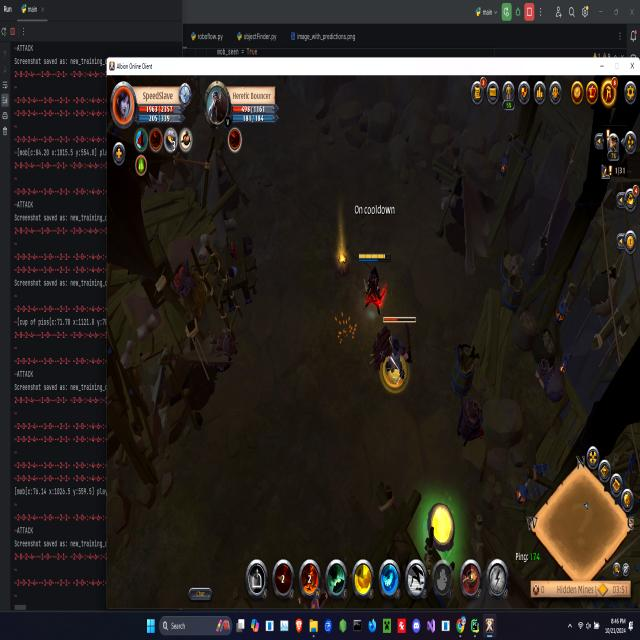fiber: (423, 492, 460, 559)
ore: (376, 312, 417, 393)
red: (355, 247, 391, 312)
